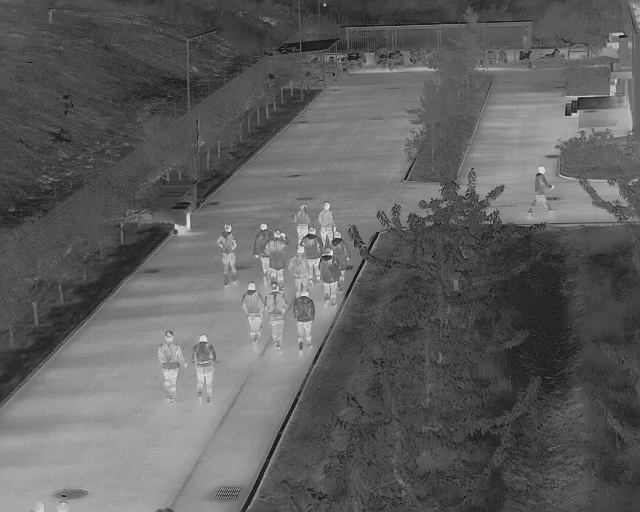person: (157, 328, 187, 404), (526, 164, 556, 220), (265, 280, 287, 355), (192, 334, 215, 404), (217, 220, 241, 286), (292, 289, 317, 352), (319, 248, 344, 309), (241, 280, 263, 347), (288, 243, 315, 297), (264, 228, 289, 285), (315, 200, 340, 248), (253, 222, 270, 272), (292, 203, 310, 242)
